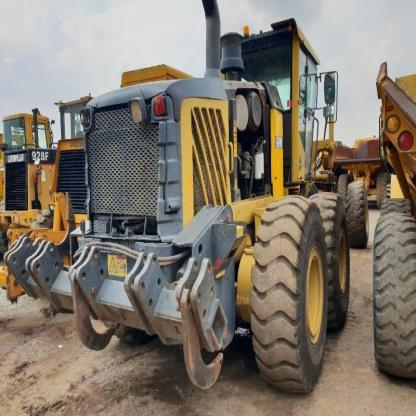bull_dozer/loader/grader: (58, 1, 372, 407)
